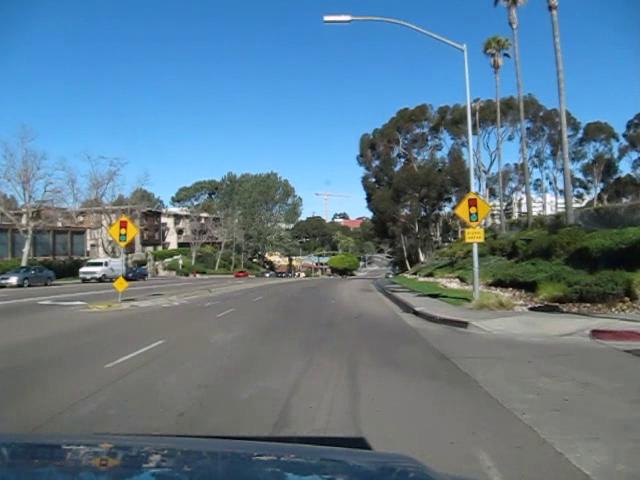signalAhead: (452, 190, 492, 229), (107, 213, 138, 248)
